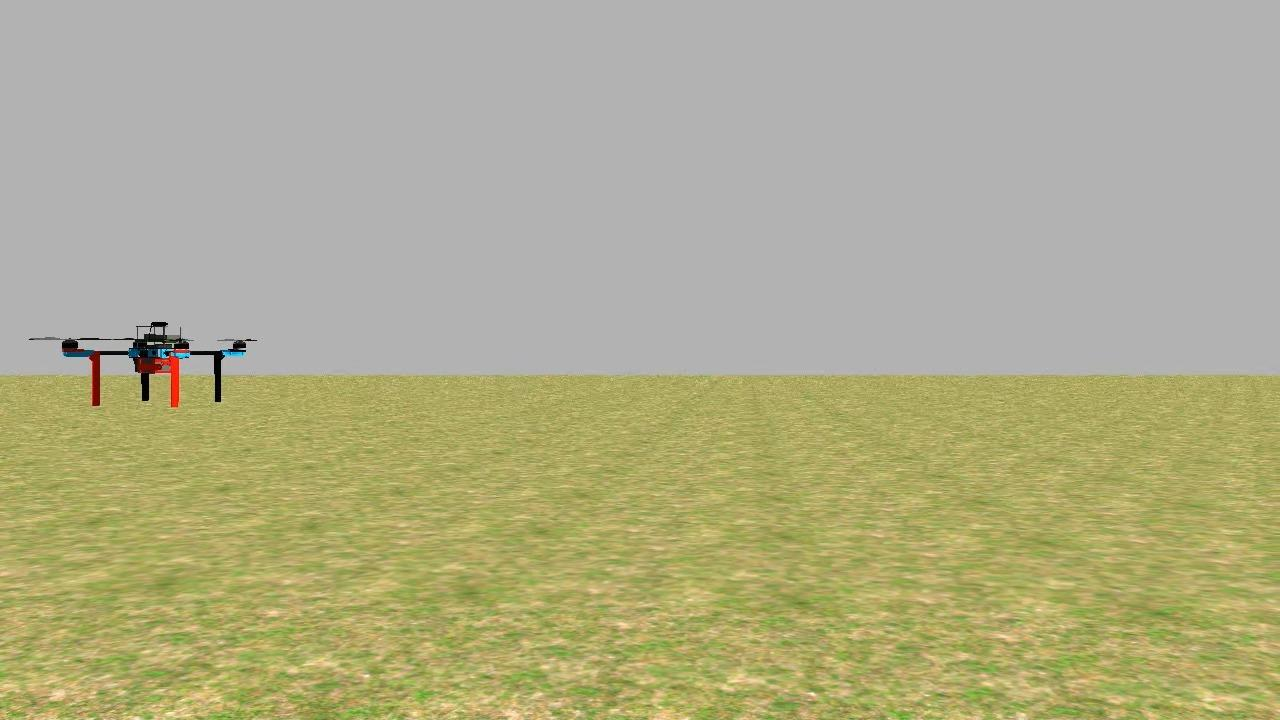UAV: (50, 308, 254, 423)
